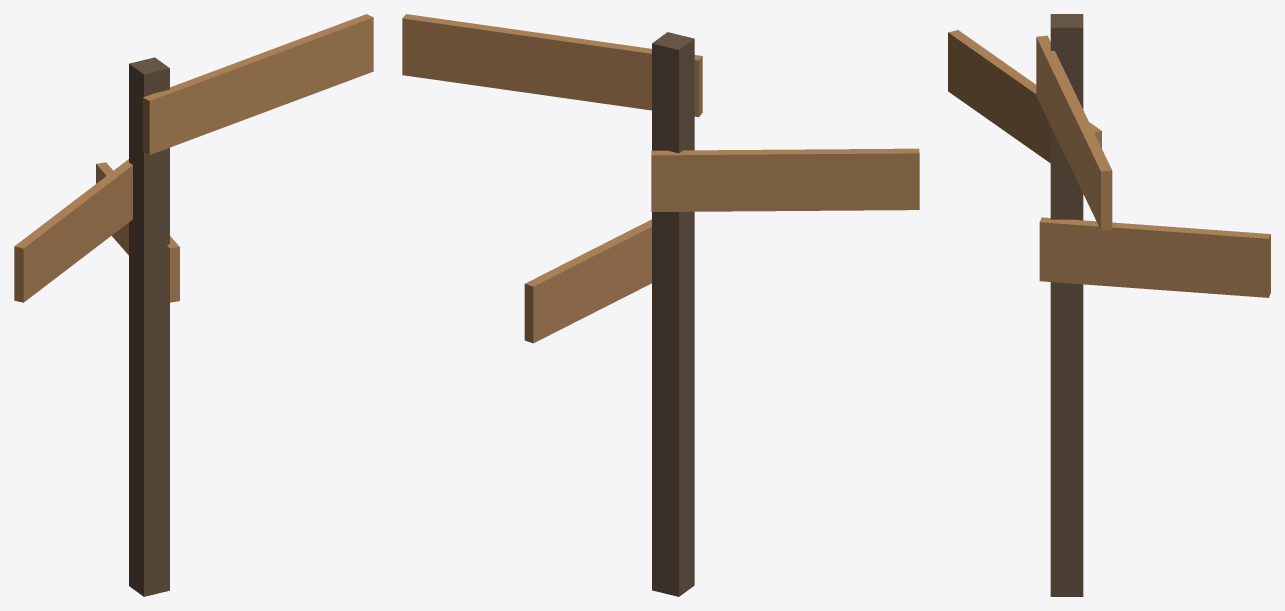
Rendered from SM_Signpost.fbx.
The picture shows the model from 3 angles, left to right: view 1: azimuth 30°, elevation 25°; view 2: azimuth 150°, elevation 25°; view 3: azimuth 270°, elevation 25°; orthographic projection. The views are drawn at different scales.
Parts seen in each view (by area): view 1: Signpost; view 2: Signpost; view 3: Signpost.
Boxes of the visible parts, x1,y1,x2,y2 form: Signpost: [14, 14, 373, 596]; Signpost: [402, 14, 919, 596]; Signpost: [948, 14, 1270, 596].
Size of the model in its own units: 230 by 139 by 270.
